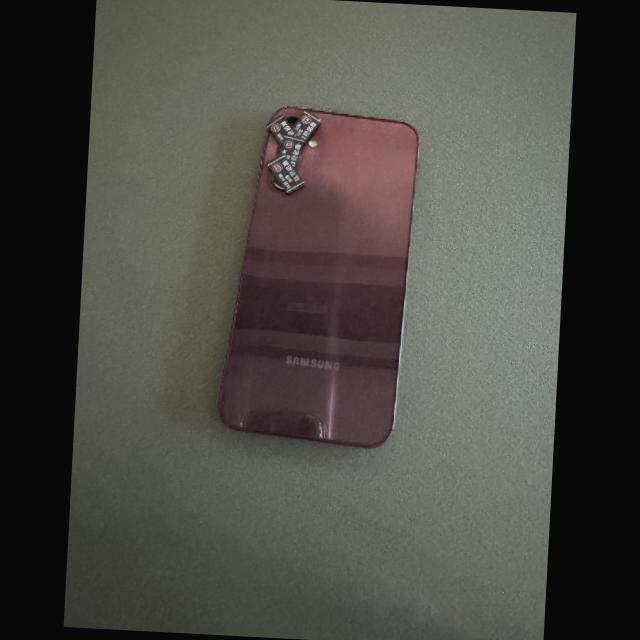lens: (274, 176, 283, 190), (287, 118, 297, 128)
phone: (218, 107, 419, 447)
sticker: (267, 154, 305, 194), (293, 110, 321, 147), (266, 115, 298, 147), (280, 135, 304, 171)
